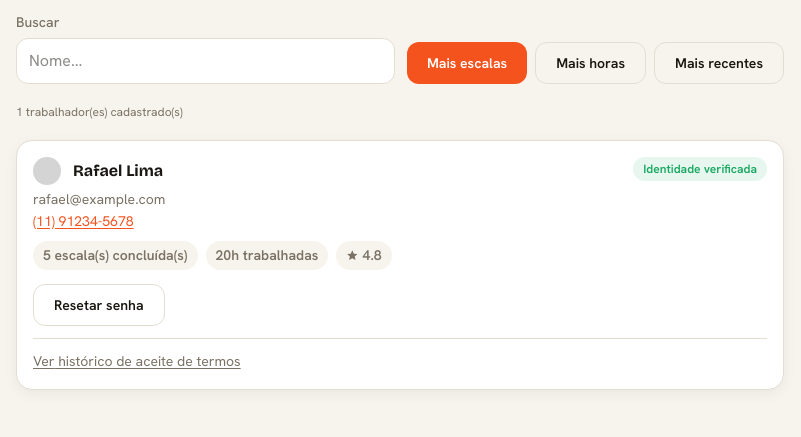
Test: AdminTrabalhadoresPage › mostra erro quando resetar a senha falha
Expected: the text "Rafael Lima" is shown, [73,159,163,183]
Click the button "Resetar senha" at (99, 305), box [33,284,164,326]
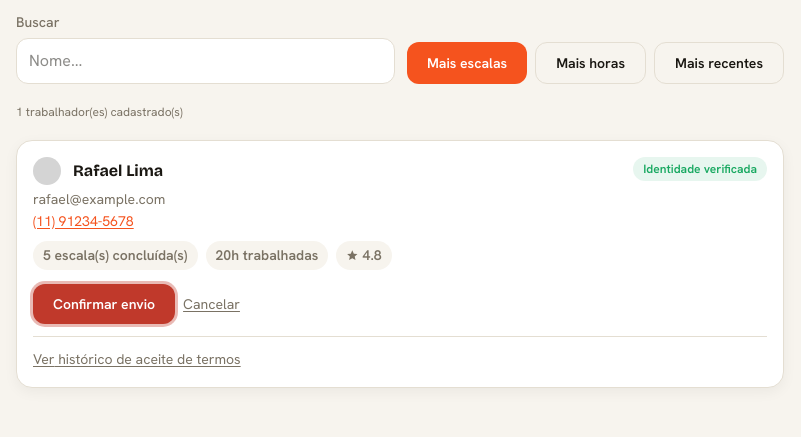
Click the button "Confirmar envio" at (104, 304), box [33,284,175,324]
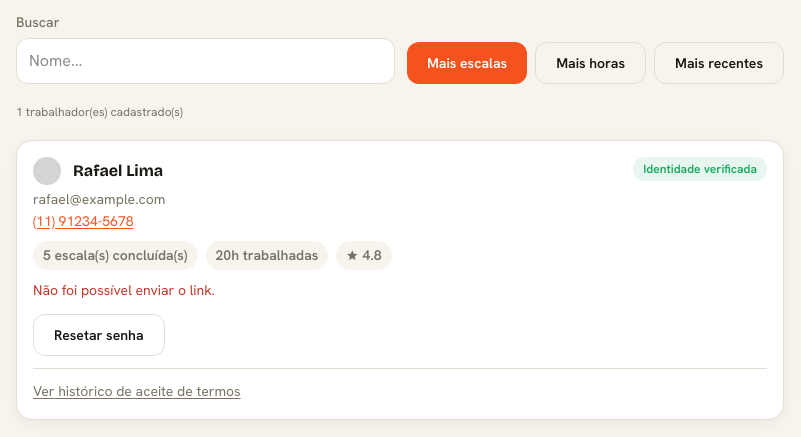
Expected: the text "Não foi possível enviar o link." is shown, [33,281,215,299]
